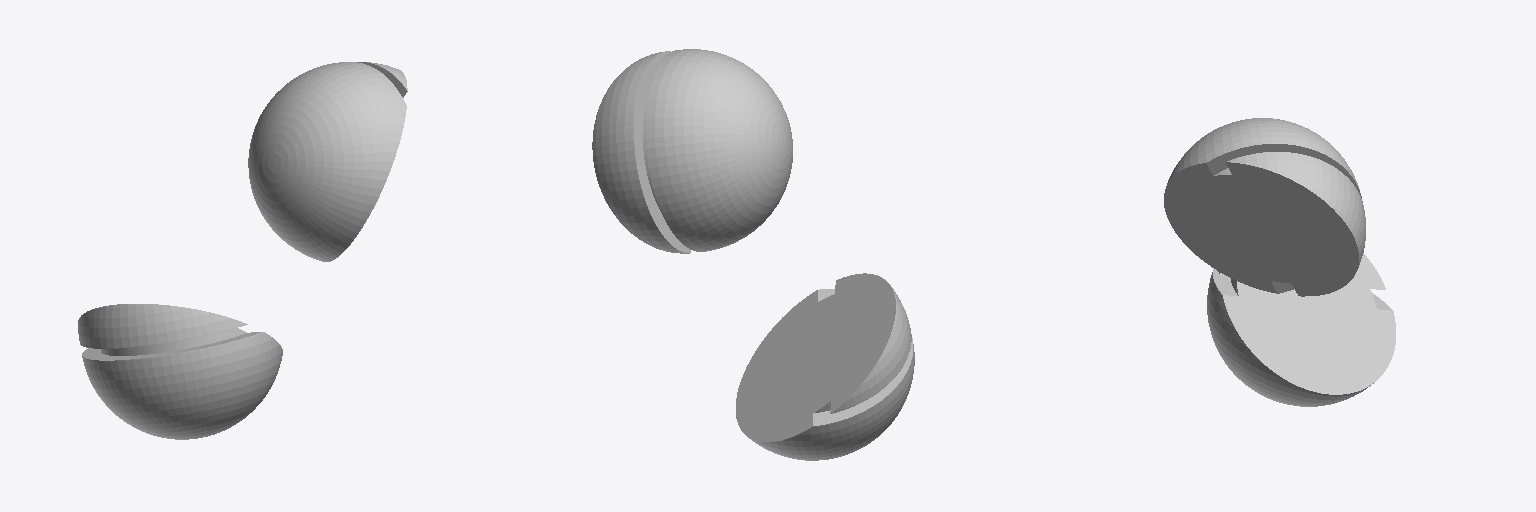
Rendered from Drone166_000011.obj.
The picture shows the model from 3 angles: view 1: azimuth 30°, elevation 25°; view 2: azimuth 150°, elevation 25°; view 3: azimuth 270°, elevation 25°; orthographic projection.
Visible parts, largest first — view 1: Sphere.001, Sphere.000_Sphere.002; view 2: Sphere.001, Sphere.000_Sphere.002; view 3: Sphere.001, Sphere.000_Sphere.002.
Part boxes in pixels (bbox=[...]): Sphere.001: bbox=[248, 62, 407, 261]; Sphere.000_Sphere.002: bbox=[78, 304, 282, 439]; Sphere.001: bbox=[592, 49, 792, 253]; Sphere.000_Sphere.002: bbox=[736, 273, 914, 460]; Sphere.001: bbox=[1164, 118, 1365, 296]; Sphere.000_Sphere.002: bbox=[1207, 253, 1395, 406].
Bounding box in the file's own units: 3.35 × 3.69 × 2.28.